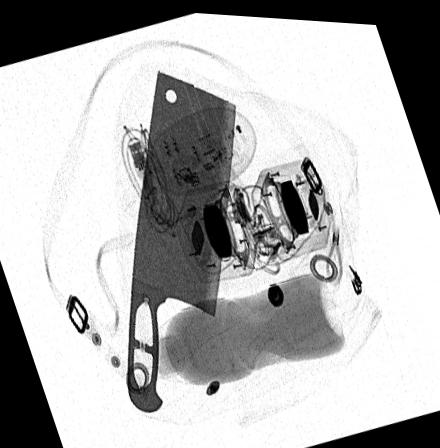Knife: (125, 67, 236, 412)
